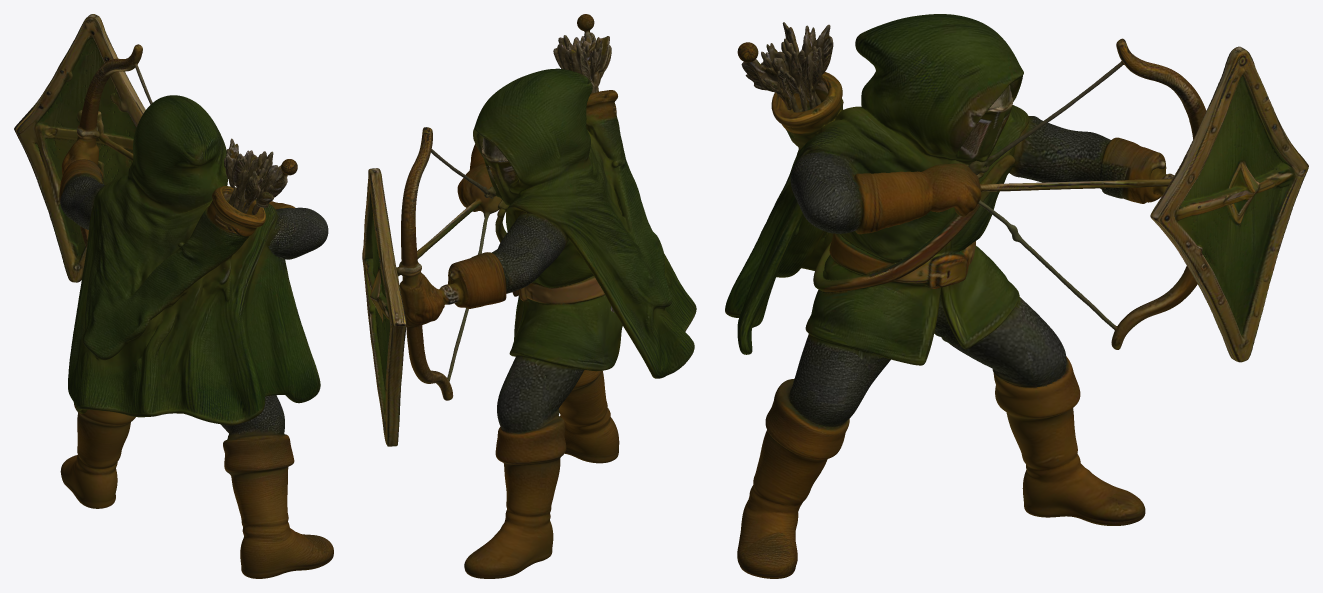
3 views of the same model, side by side, from view 1: azimuth 30°, elevation 25°; view 2: azimuth 150°, elevation 25°; view 3: azimuth 270°, elevation 25° (orthographic). The views are drawn at different scales.
Visible parts, largest first — view 1: tripo_node_a8469098-fb86-44f5-a811-caee0885f0e3; view 2: tripo_node_a8469098-fb86-44f5-a811-caee0885f0e3; view 3: tripo_node_a8469098-fb86-44f5-a811-caee0885f0e3.
Part boxes in pixels (x1=…): tripo_node_a8469098-fb86-44f5-a811-caee0885f0e3: x1=14, y1=14, x2=333, y2=578; tripo_node_a8469098-fb86-44f5-a811-caee0885f0e3: x1=362, y1=14, x2=696, y2=578; tripo_node_a8469098-fb86-44f5-a811-caee0885f0e3: x1=725, y1=14, x2=1308, y2=578.
Size of the model in its own units: 0.5474 by 0.979 by 1.
Materials: 1 (1 with a texture image).
